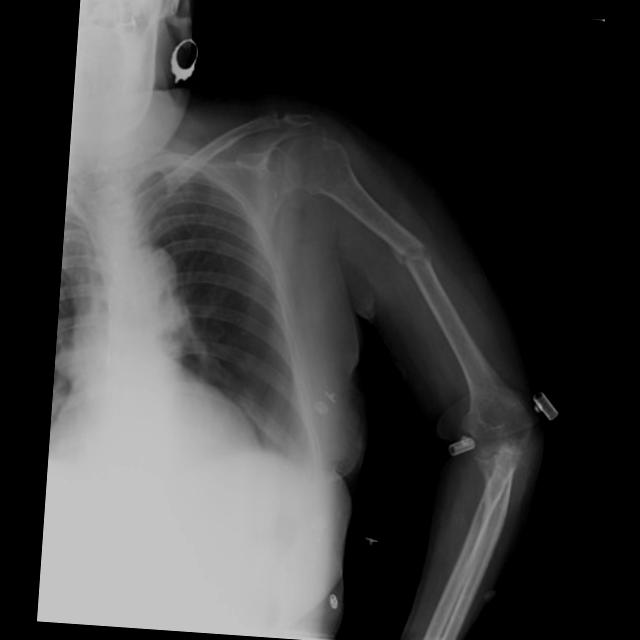Fracture: (373, 235, 435, 273)
